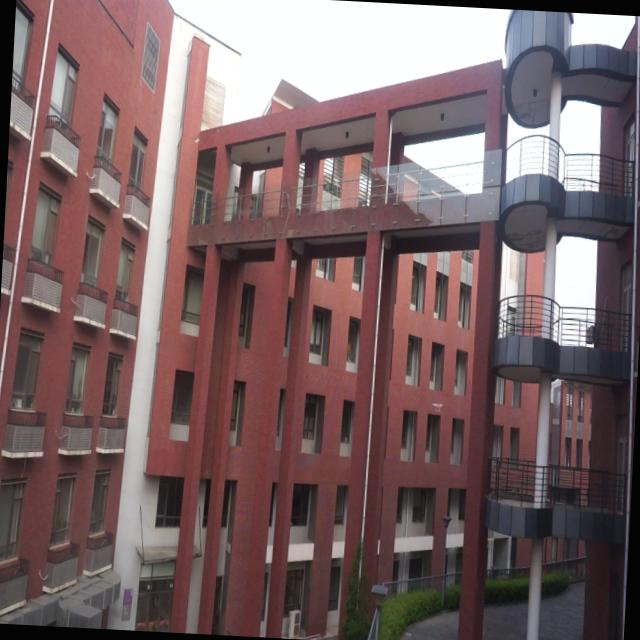drone: (430, 398, 446, 418)
